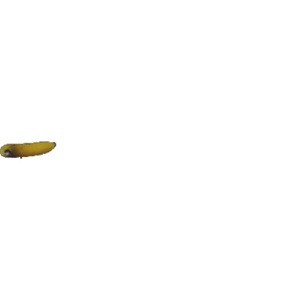banana: (1, 136, 57, 164)
